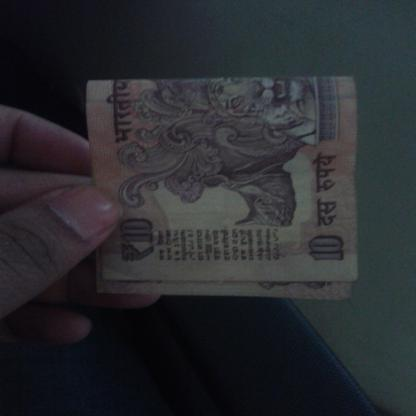Old10Back: (85, 74, 362, 302)
